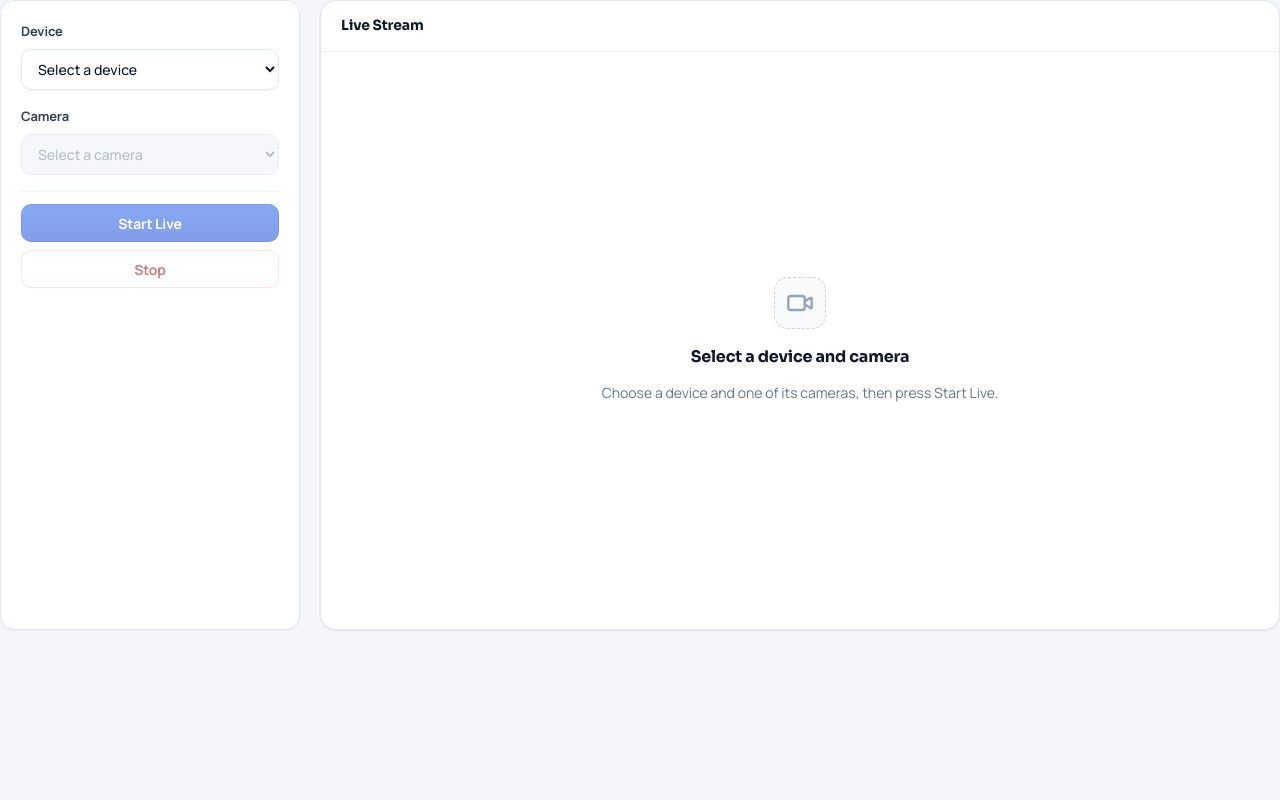
Test: VideoPage › maps a relay-side close (token/session outcome the player can't distinguish) to unavailable
Select "TERM12345678 — LSZ LSZ-C5804DG-Q-F" in the dropdown labelled "Device" at point(150, 70), box [21,49,279,90]
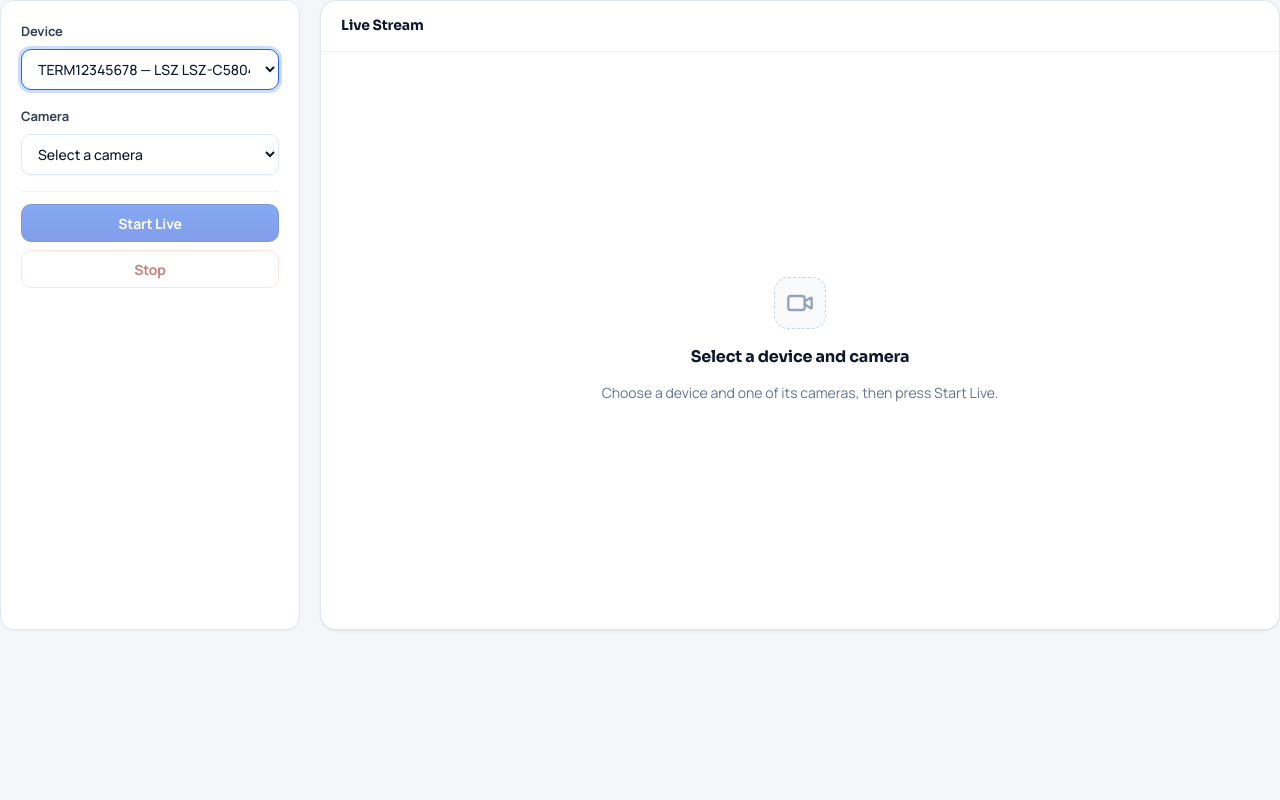
Select "Front (road_facing)" in the dropdown labelled "Camera" at point(150, 155), box [21,134,279,175]
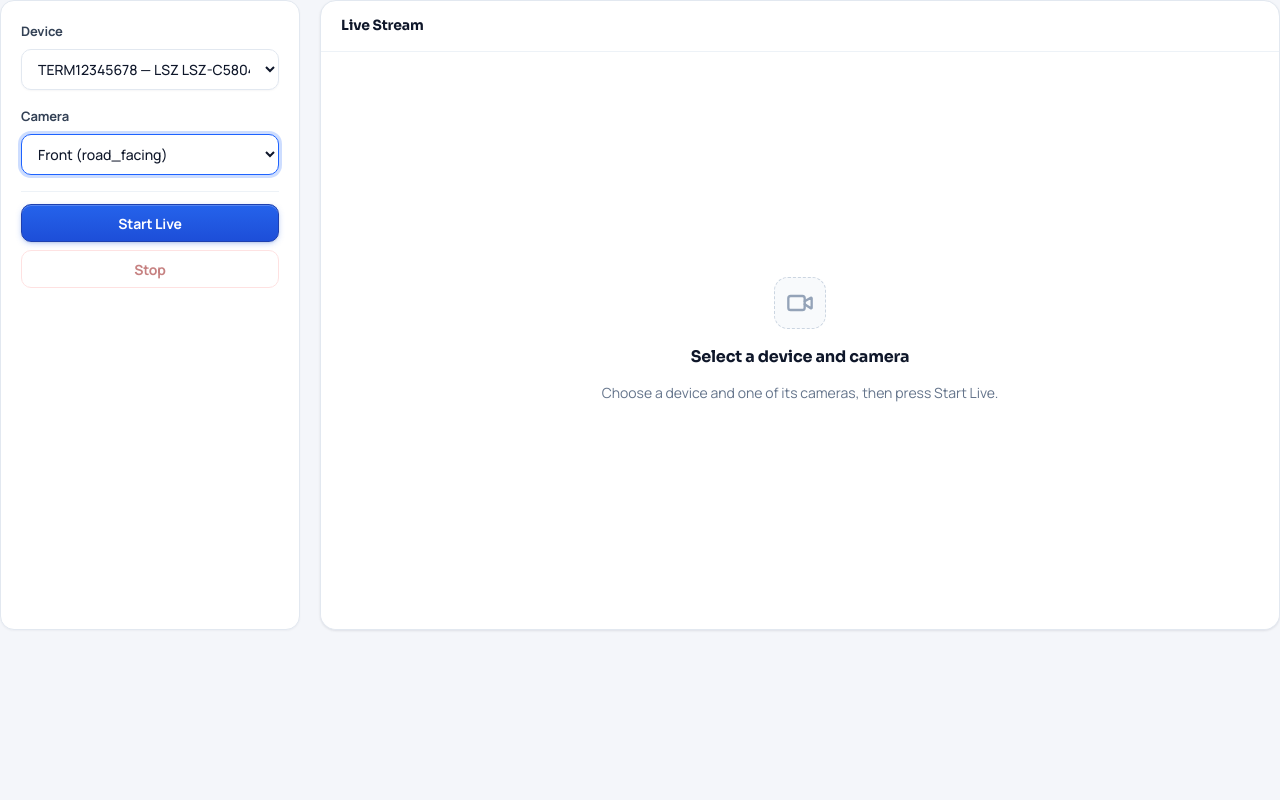
Click the button "Start Live".
click(150, 223)  # box [21,204,279,242]
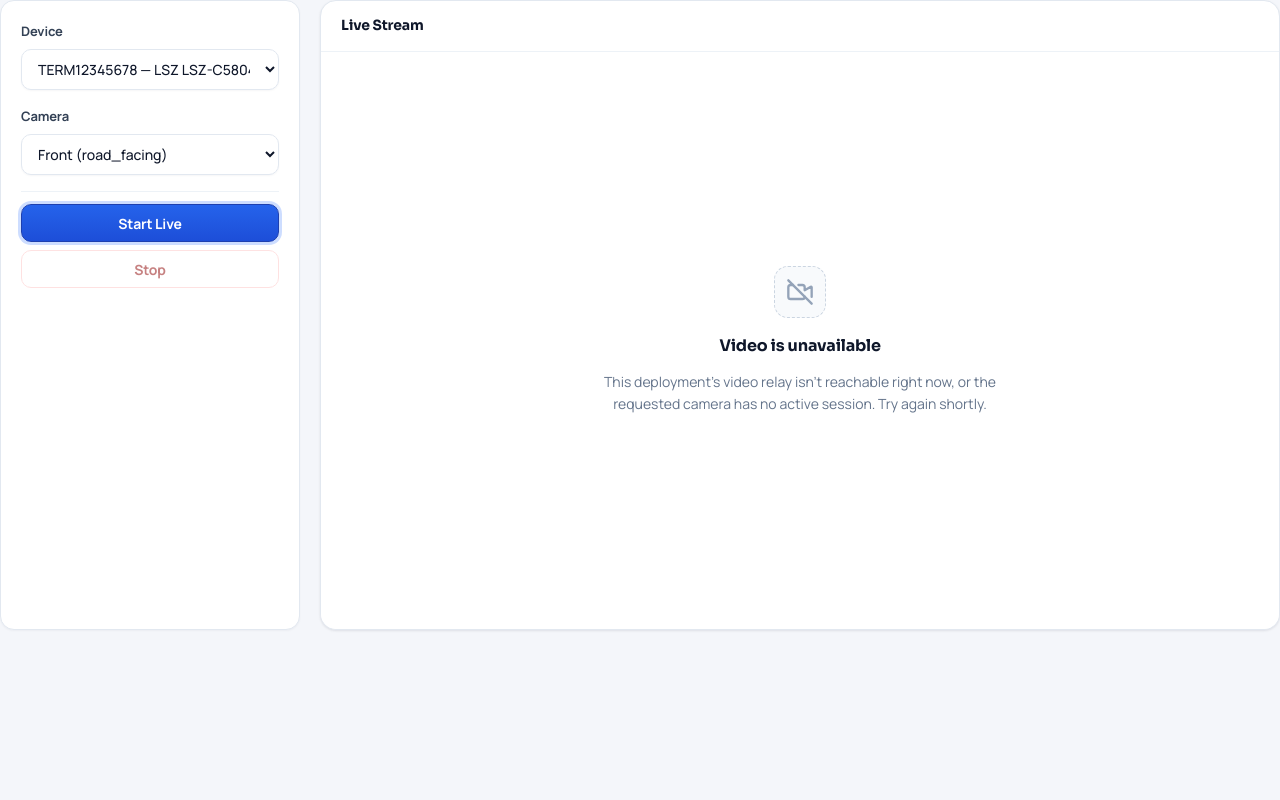
Expected: the text "Video is unavailable" is shown, [719,334,881,359]
